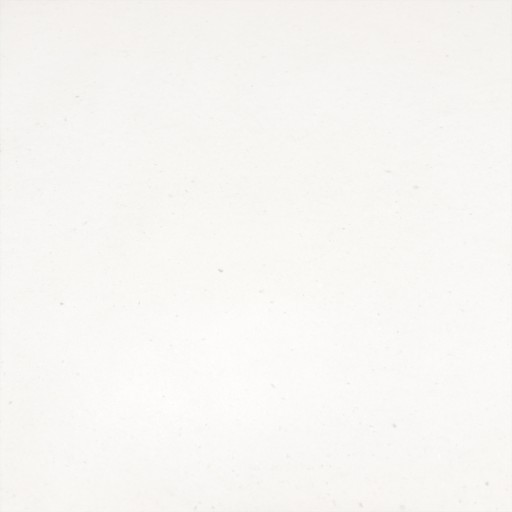lego: (228, 207, 286, 306)
